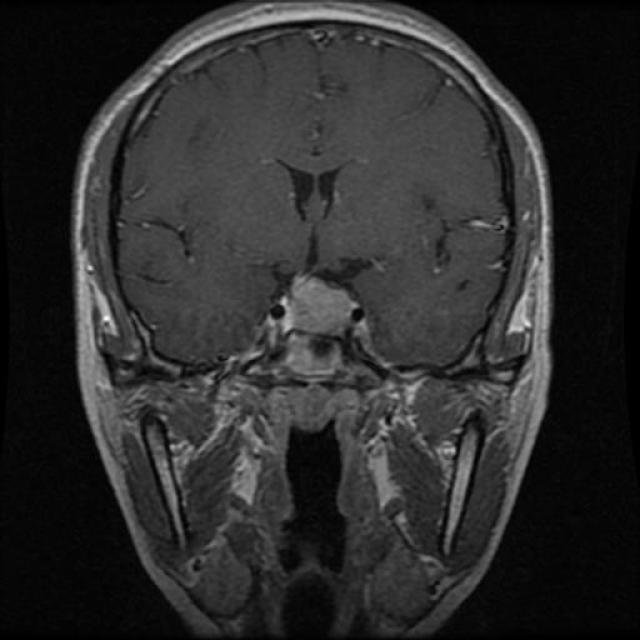pituitary: (270, 266, 375, 376)
